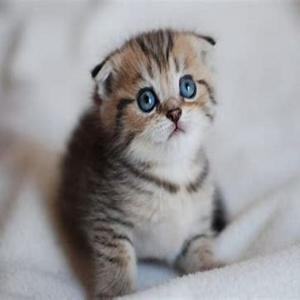cat: (71, 40, 221, 260)
